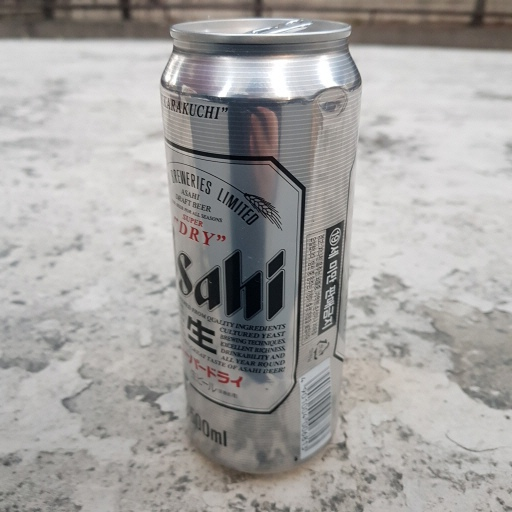Metal_0: (158, 17, 364, 478)
